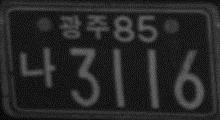1: (110, 45, 129, 110), (144, 46, 163, 110)
3: (68, 46, 100, 106)
5: (137, 14, 158, 44)
6: (173, 46, 204, 108)
8: (112, 14, 135, 43)
광주_O: (58, 12, 110, 40)
나: (19, 45, 56, 89)
